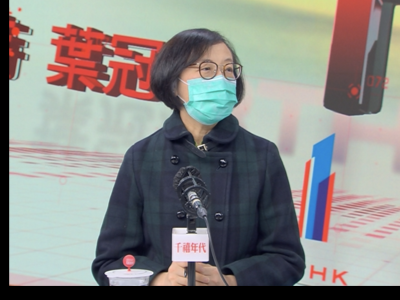with_mask: (180, 55, 241, 126)
